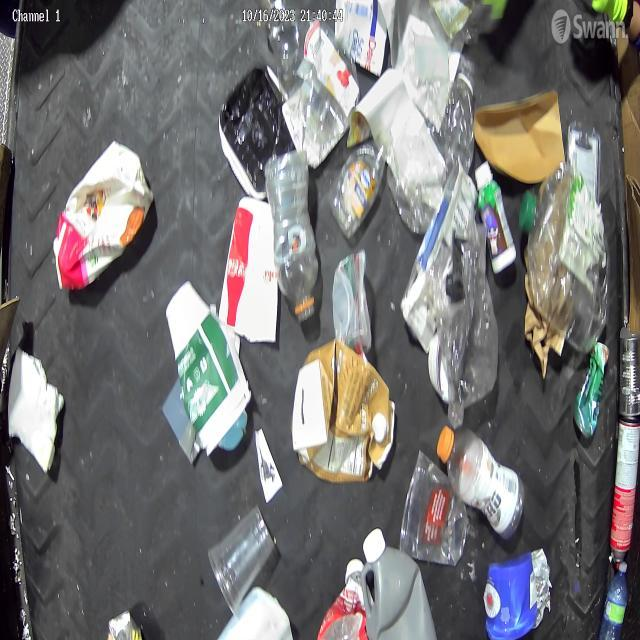can: (572, 340, 610, 440), (618, 325, 640, 418)
non_white_jug: (292, 337, 396, 490), (53, 140, 155, 292), (360, 525, 439, 640)
plastic_bottle: (436, 424, 526, 544), (263, 146, 320, 326), (597, 559, 628, 640)
